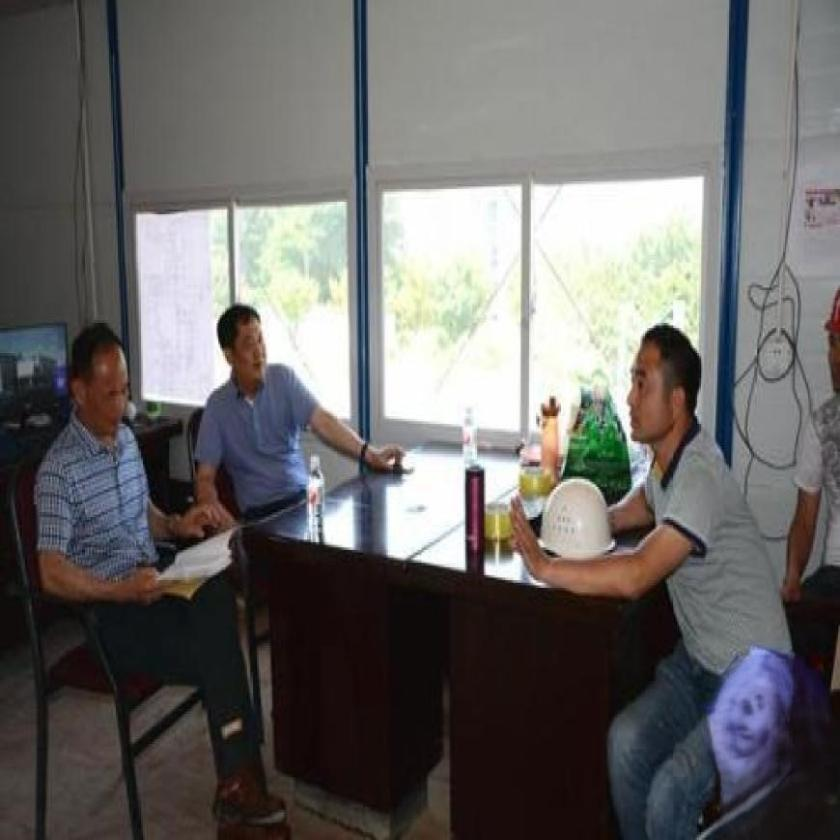Sin_casco: (624, 319, 706, 446), (66, 322, 142, 436), (210, 301, 271, 392)
